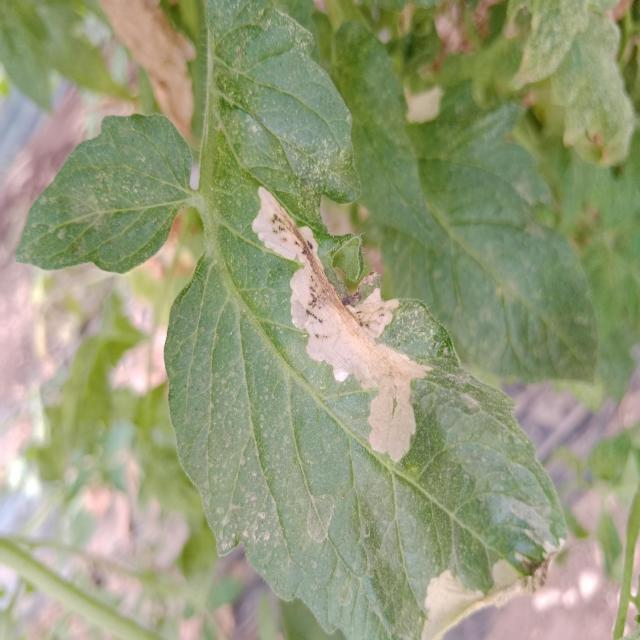Tuta absoluta: (215, 160, 472, 468)
